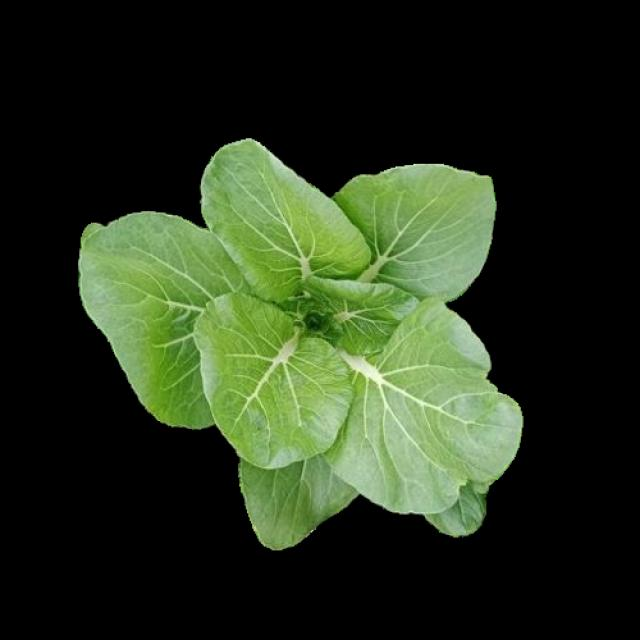healthy: (77, 138, 523, 544)
mature: (79, 140, 526, 546)
